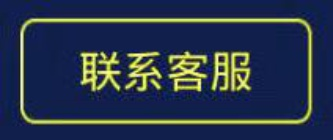Button: (1, 1, 332, 139)
